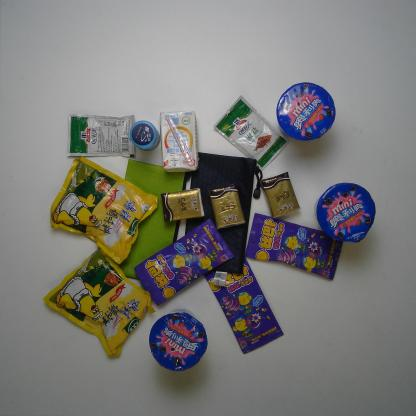Candy: (130, 215, 237, 311), (199, 252, 286, 361), (243, 211, 349, 283)
Dessert: (312, 179, 378, 246), (147, 308, 208, 375), (274, 80, 338, 142)
Gum: (129, 116, 162, 156)
Milk: (156, 106, 204, 177)
Seasoner: (39, 240, 159, 364), (44, 151, 164, 268), (213, 93, 292, 172), (62, 109, 139, 162)
Stationery: (99, 155, 192, 288), (180, 146, 262, 278)
Tissue: (258, 167, 302, 221), (206, 184, 249, 234), (158, 184, 205, 224)
